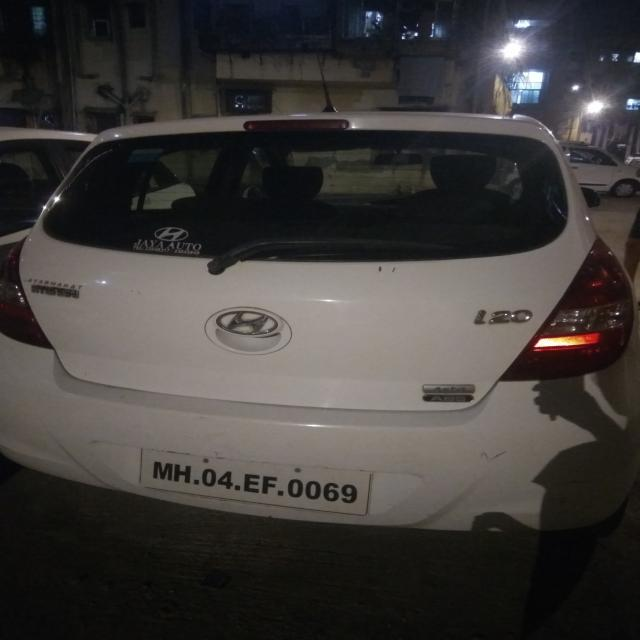Number-Plate: (136, 444, 372, 510)
